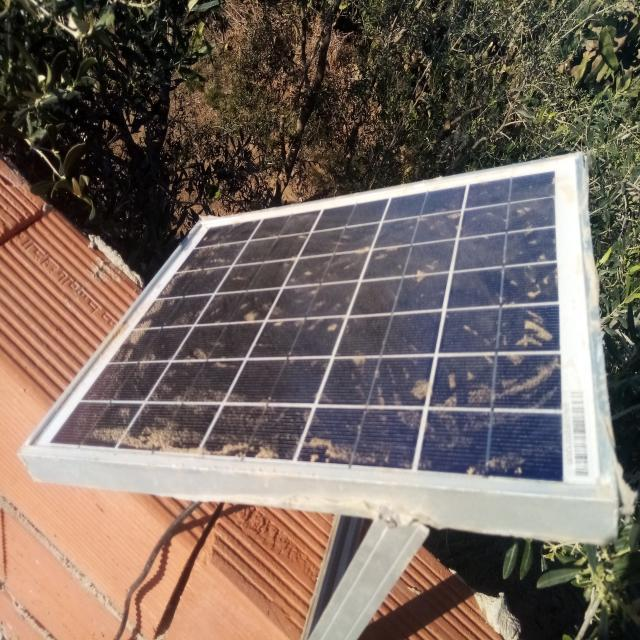faulty: (25, 150, 615, 501)
